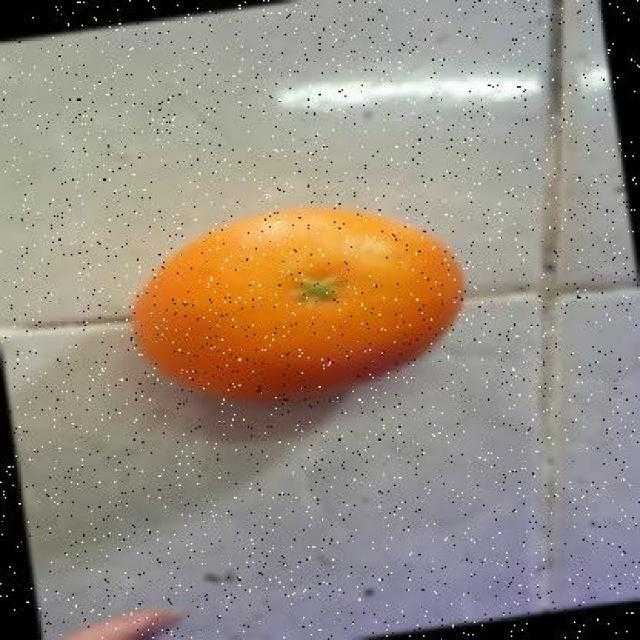Orange: (128, 204, 466, 404)
